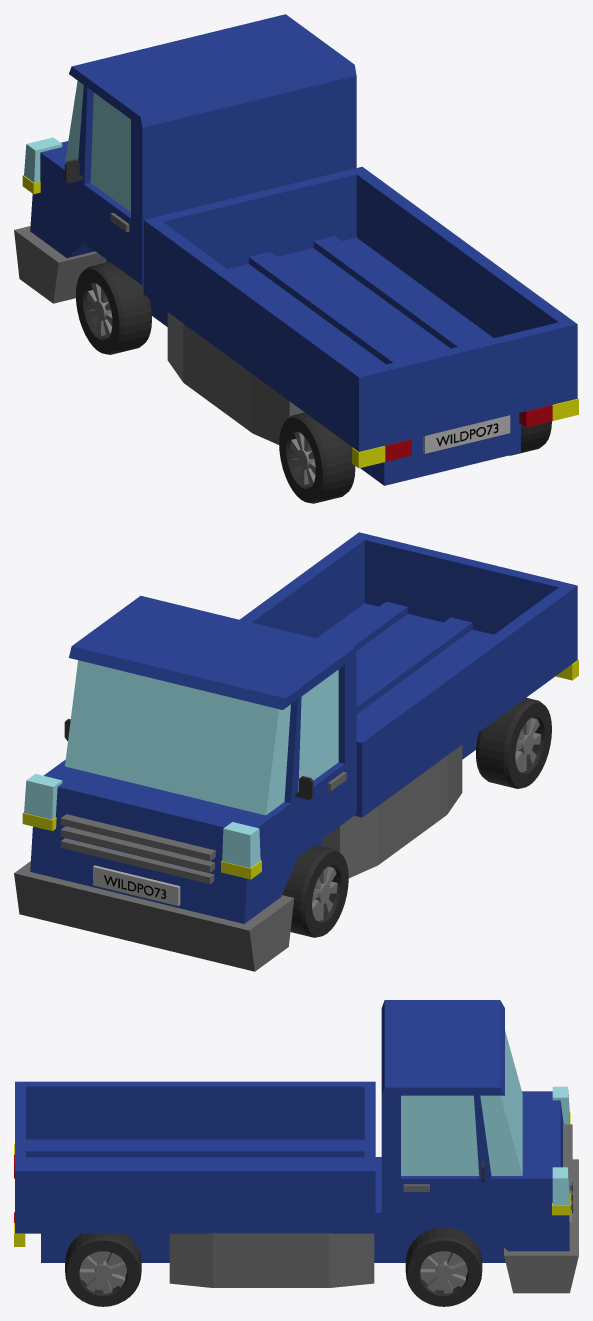
The model's file is truck.fbx.
The picture shows the model from 3 angles, top to bottom: view 1: azimuth 30°, elevation 25°; view 2: azimuth 150°, elevation 25°; view 3: azimuth 270°, elevation 25°; orthographic projection. The views are drawn at different scales.
Visible parts, largest first — view 1: Bed, Frame_front, Frame_bottom, Wheel_front_l, Wheel_back_l, Glass, Frame_core, Bumper_front, Plate.001, Headlight_l, Taillight_l, Taillight_r (+1 smaller); view 2: Bed, Frame_front, Glass, Bumper_front, Frame_bottom, Grill, Wheel_back_l, Wheel_front_l, Headlight_l, Headlight_r, Plate; view 3: Bed, Frame_front, Frame_bottom, Glass, Wheel_front_r, Wheel_back_r, Frame_core, Bumper_front, Headlight_r, Grill, Headlight_l.
Boxes of the visible parts, x1,y1,x2,y2 form: Bed: (143,166,577,451); Frame_front: (30,14,356,285); Frame_bottom: (167,312,304,444); Wheel_front_l: (76,261,151,354); Wheel_back_l: (279,412,355,503); Glass: (65,81,130,211); Frame_core: (106,260,520,485); Bumper_front: (14,226,106,303); Plate.001: (423,415,510,453); Headlight_l: (22,137,62,194); Taillight_l: (352,439,411,468); Taillight_r: (519,398,578,427); Bed: (239,532,577,817); Frame_front: (30,595,356,923); Glass: (65,660,338,815); Bumper_front: (14,861,293,971); Frame_bottom: (322,745,462,878); Grill: (60,814,215,883); Wheel_back_l: (476,697,551,788); Wheel_front_l: (282,844,348,937); Headlight_l: (221,822,261,879); Headlight_r: (22,774,62,831); Plate: (93,865,180,905); Bed: (15,1081,375,1233); Frame_front: (381,1000,569,1251); Frame_bottom: (169,1233,374,1287); Glass: (401,1030,522,1175); Wheel_front_r: (405,1228,482,1306); Wheel_back_r: (65,1233,141,1306); Frame_core: (41,1157,505,1262); Bumper_front: (504,1159,578,1293); Headlight_r: (552,1167,570,1215); Grill: (563,1124,572,1209); Headlight_l: (552,1086,570,1124).
Bounding box in the file's own units: 226 × 227 × 534.
